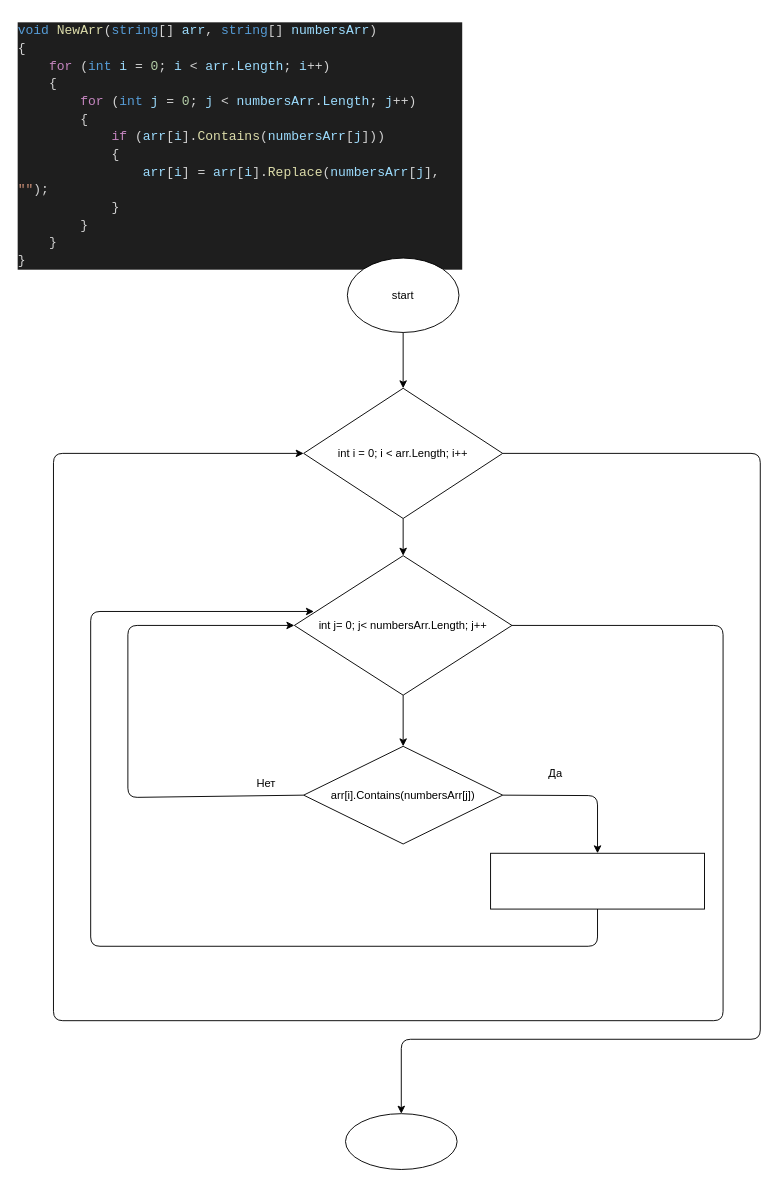
Image size: 784x1186. Some labels were removed from this diagram. The centre of each missing label's shape, as x and y in pixels:
arr[i] = arr[i].Replace(numbersArr[j], "");: the point at 597,880
end: the point at 401,1141
